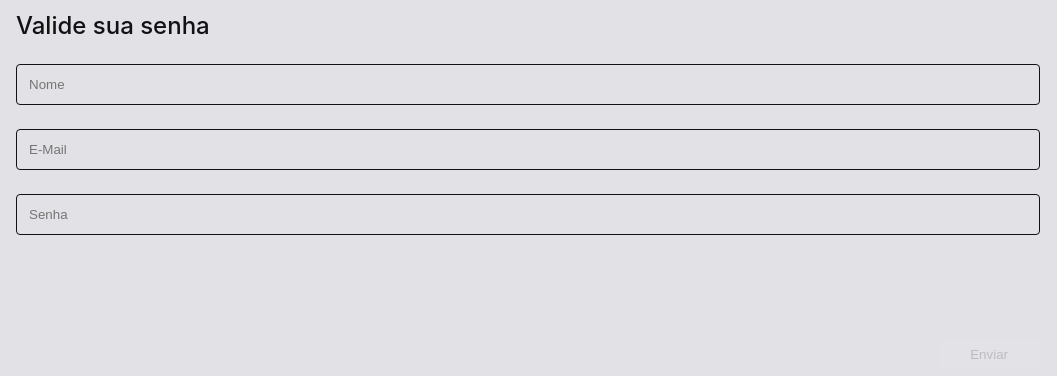
Test case: Form Submission › should show error messages for invalid data
Step 1. Type "T" into the field named "name" → (528, 85), box [16, 64, 1040, 105]
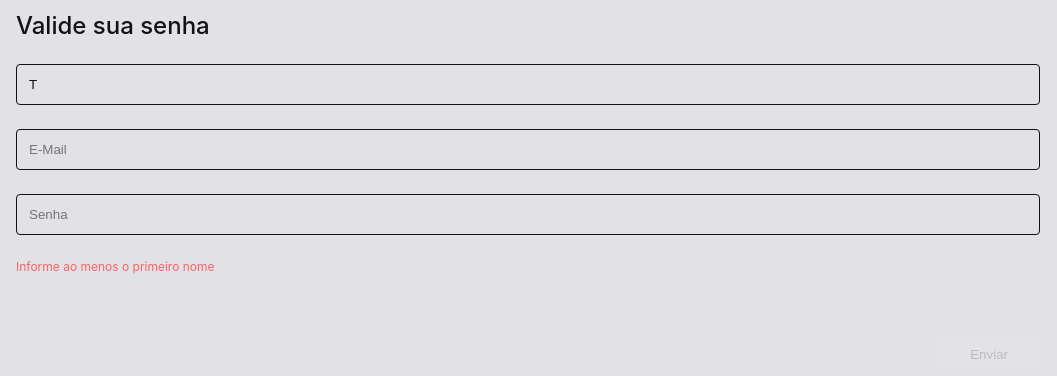
Step 2. Type "teste@teste" into the field named "email" → (528, 150), box [16, 129, 1040, 170]
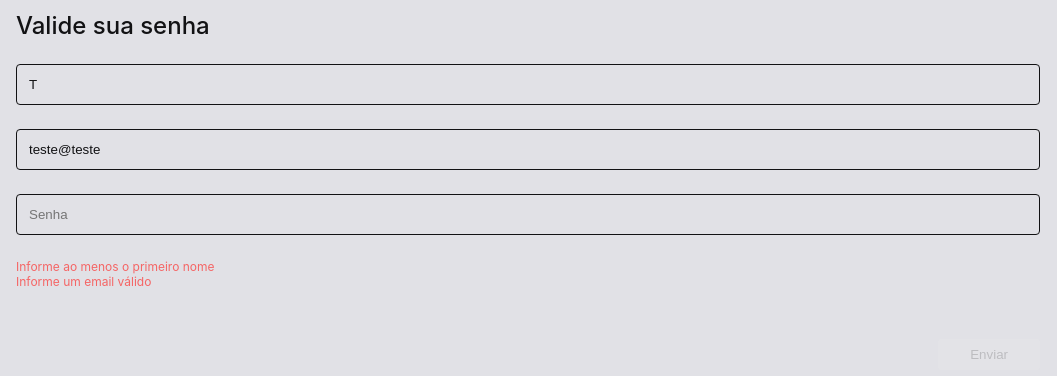
Step 3. Type "112345" into the field named "password" → (528, 215), box [16, 194, 1040, 235]
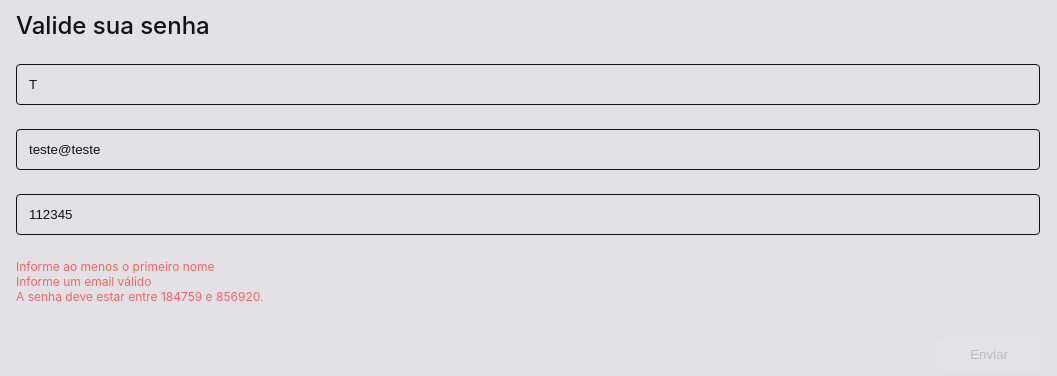
Now the text "Informe ao menos o primeiro nome" is shown, box [16, 259, 215, 274]
Now the text "Informe um email válido" is shown, box [16, 274, 151, 289]
Now the text "A senha deve estar entre 184759 e 856920." is shown, box [16, 289, 263, 304]
